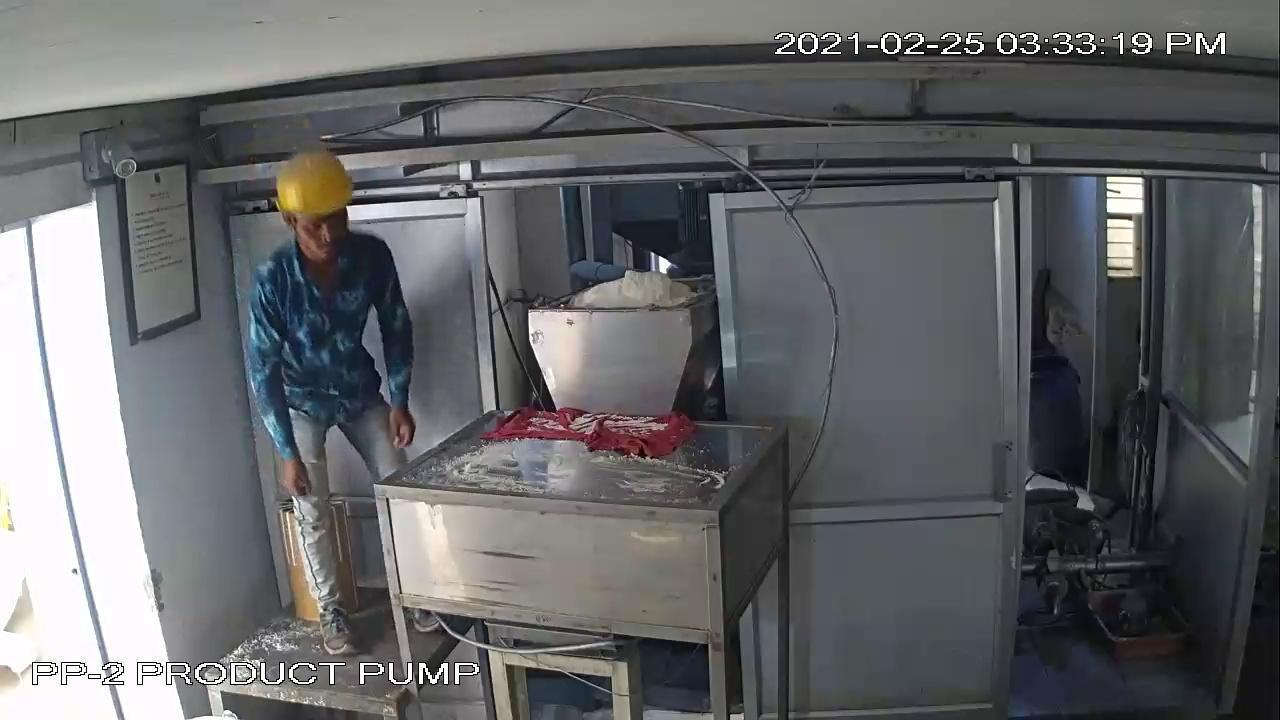helmet: (266, 146, 368, 221)
